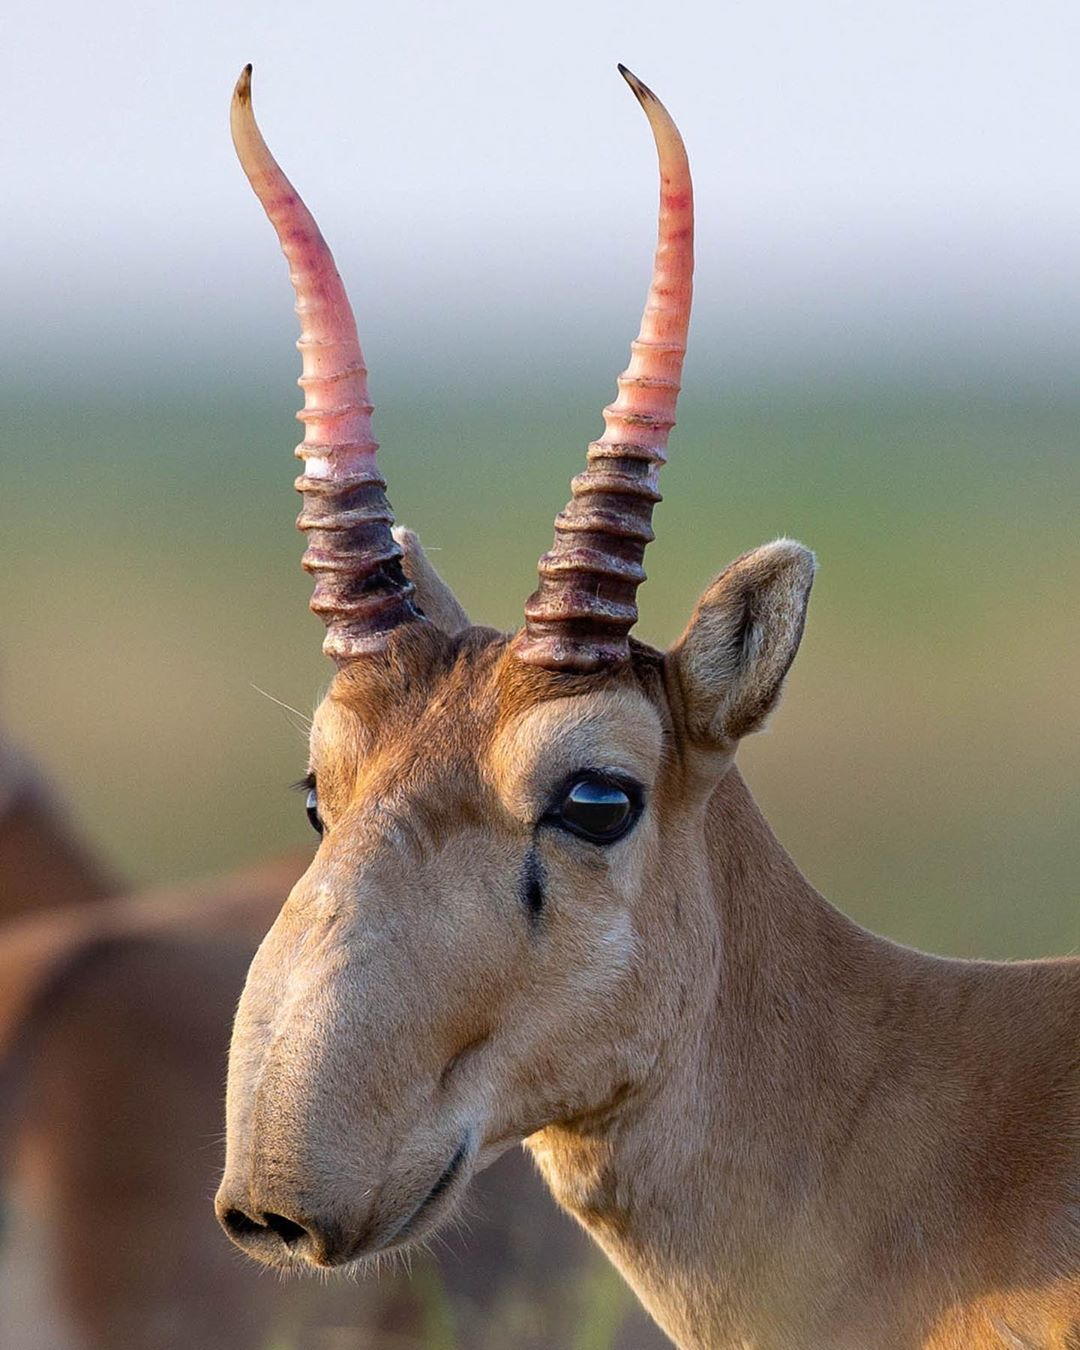saiga: (215, 56, 1080, 1350)
